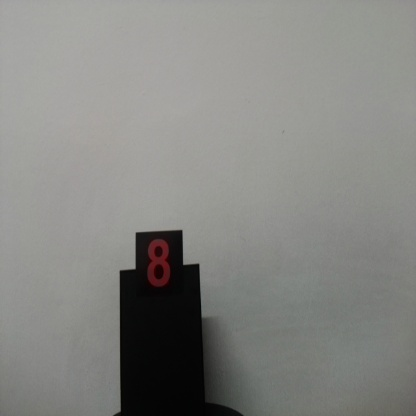id_8: (136, 231, 183, 304)
